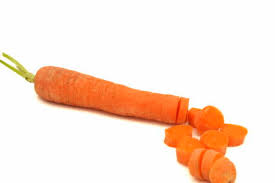carrot: (28, 62, 204, 132)
